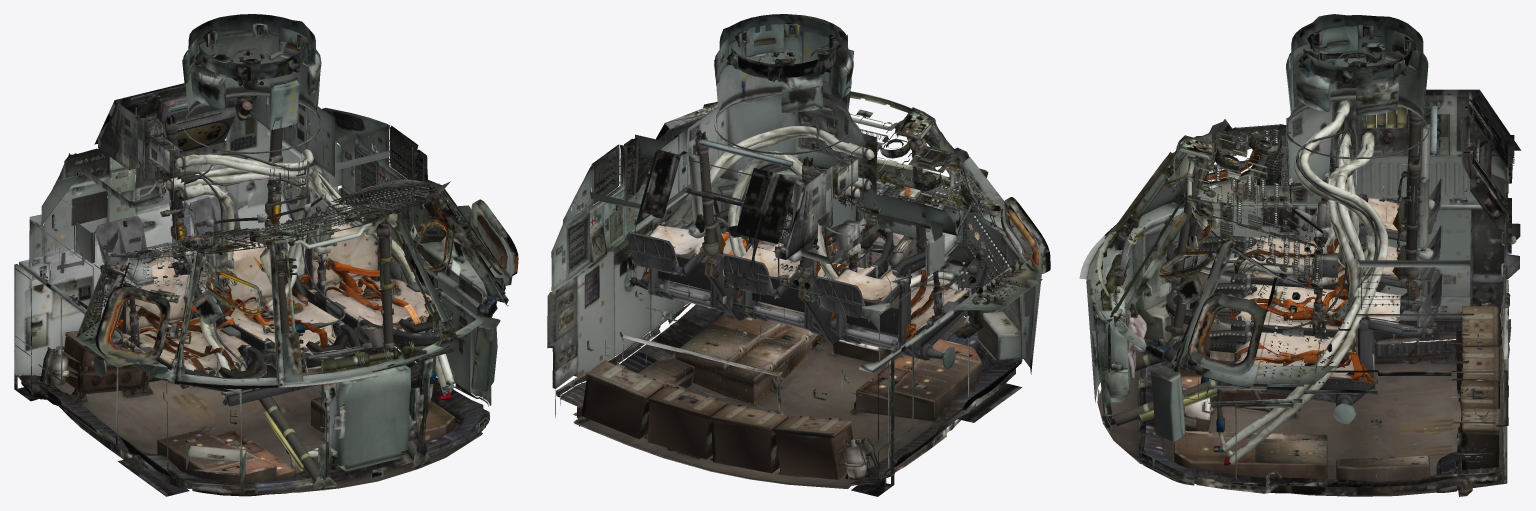
Rendered from cm_interior.glb.
3 renders of one model, left to right at view 1: azimuth 30°, elevation 25°; view 2: azimuth 150°, elevation 25°; view 3: azimuth 270°, elevation 25°, orthographic. The views are drawn at different scales.
Parts seen in each view (by area): view 1: Mesh_0.046; view 2: Mesh_0.046; view 3: Mesh_0.046.
Part boxes in pixels (left/top/right/bottom): Mesh_0.046: left=14, top=14, right=518, bottom=496; Mesh_0.046: left=547, top=14, right=1050, bottom=496; Mesh_0.046: left=1079, top=14, right=1521, bottom=496.
Bounding box in the file's own units: 2.79 × 2.51 × 2.49.
4 materials, 4 textured.
